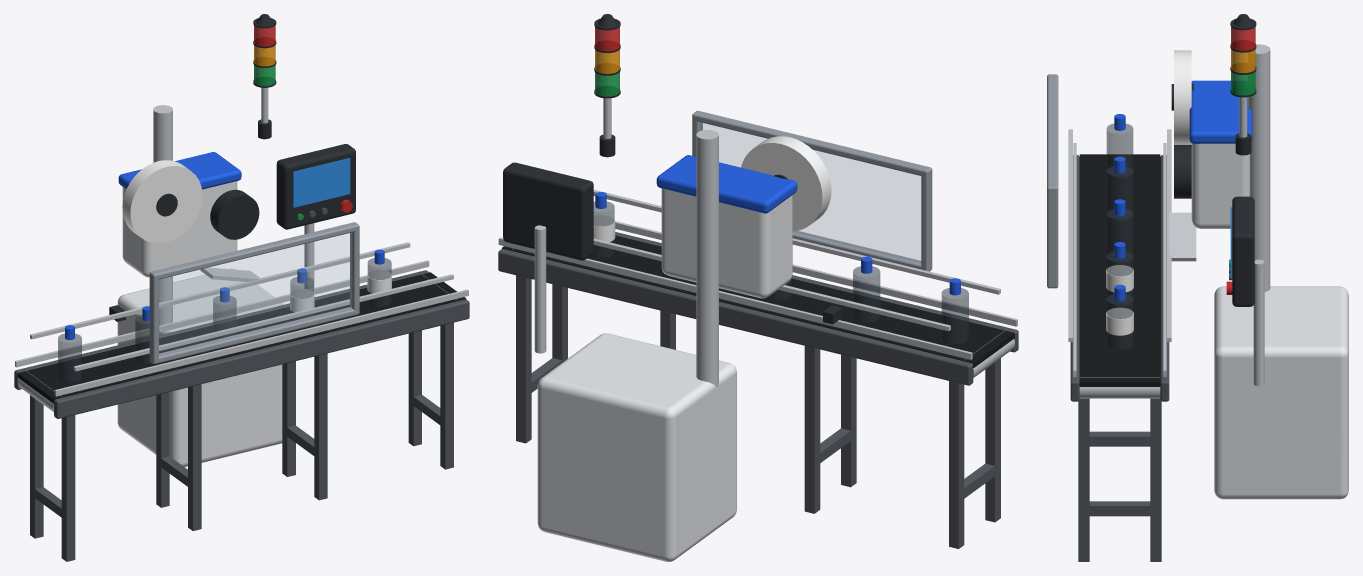
The model's file is labeling-machine.glb.
The picture shows the model from 3 angles, left to right: view 1: azimuth 30°, elevation 25°; view 2: azimuth 150°, elevation 25°; view 3: azimuth 270°, elevation 25°; orthographic projection. The views are drawn at different scales.
Visible parts, largest first — view 1: labeling_machine_dark_steel, labeling_machine_paint_white, labeling_machine_glass, labeling_machine_steel, labeling_machine_rubber, labeling_machine_graphite, labeling_machine_label, labeling_machine_paint_grey, labeling_machine_glass_tint, labeling_machine_accent_blue, labeling_machine_screen; view 2: labeling_machine_paint_white, labeling_machine_dark_steel, labeling_machine_steel, labeling_machine_glass, labeling_machine_rubber, labeling_machine_graphite, labeling_machine_paint_grey, labeling_machine_label, labeling_machine_accent_blue, labeling_machine_glass_tint; view 3: labeling_machine_paint_white, labeling_machine_rubber, labeling_machine_steel, labeling_machine_dark_steel, labeling_machine_glass_tint, labeling_machine_graphite, labeling_machine_accent_blue, labeling_machine_label, labeling_machine_paint_grey, andon_amber, andon_green, andon_red.
Boxes of the visible parts, x1,y1,x2,y2 form: labeling_machine_dark_steel: (14, 207, 469, 561); labeling_machine_paint_white: (117, 181, 283, 466); labeling_machine_glass: (159, 233, 351, 355); labeling_machine_steel: (15, 87, 468, 411); labeling_machine_rubber: (17, 272, 466, 403); labeling_machine_graphite: (109, 14, 355, 321); labeling_machine_label: (122, 160, 391, 312); labeling_machine_paint_grey: (149, 222, 359, 364); labeling_machine_glass_tint: (58, 258, 391, 382); labeling_machine_accent_blue: (65, 152, 384, 339); labeling_machine_screen: (293, 158, 350, 207); labeling_machine_paint_white: (537, 188, 792, 561); labeling_machine_dark_steel: (498, 232, 1018, 548); labeling_machine_steel: (498, 98, 1017, 386); labeling_machine_glass: (700, 123, 920, 262); labeling_machine_rubber: (502, 235, 1014, 367); labeling_machine_graphite: (503, 14, 841, 324); labeling_machine_paint_grey: (692, 110, 932, 271); labeling_machine_label: (593, 136, 831, 242); labeling_machine_accent_blue: (595, 155, 960, 295); labeling_machine_glass_tint: (591, 201, 968, 343); labeling_machine_paint_white: (1191, 143, 1348, 499); labeling_machine_rubber: (1079, 154, 1160, 386); labeling_machine_steel: (1068, 44, 1270, 398); labeling_machine_dark_steel: (1070, 155, 1232, 561); labeling_machine_glass_tint: (1106, 123, 1133, 349); labeling_machine_graphite: (1171, 14, 1256, 306); labeling_machine_accent_blue: (1114, 80, 1252, 301); labeling_machine_label: (1106, 50, 1191, 335); labeling_machine_paint_grey: (1047, 74, 1058, 288); andon_amber: (1231, 49, 1255, 73); andon_green: (1231, 71, 1255, 95); andon_red: (1231, 27, 1255, 50).
Bounding box in the file's own units: 2.4 × 2.37 × 1.34.
